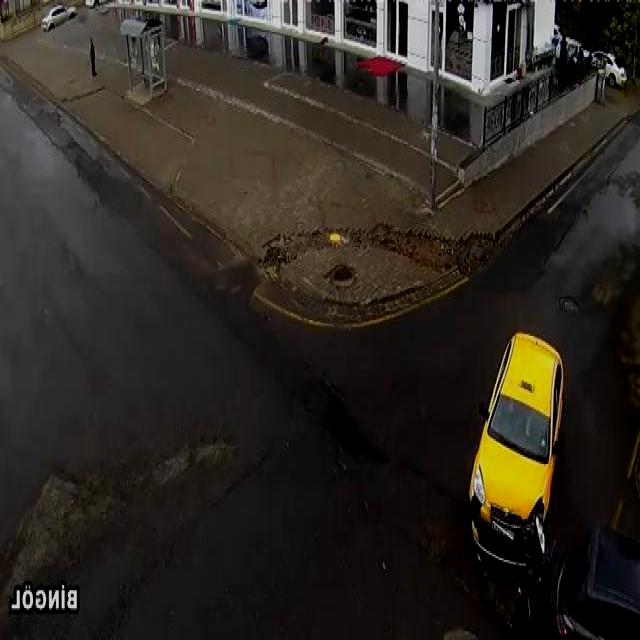accident: (462, 322, 570, 572)
